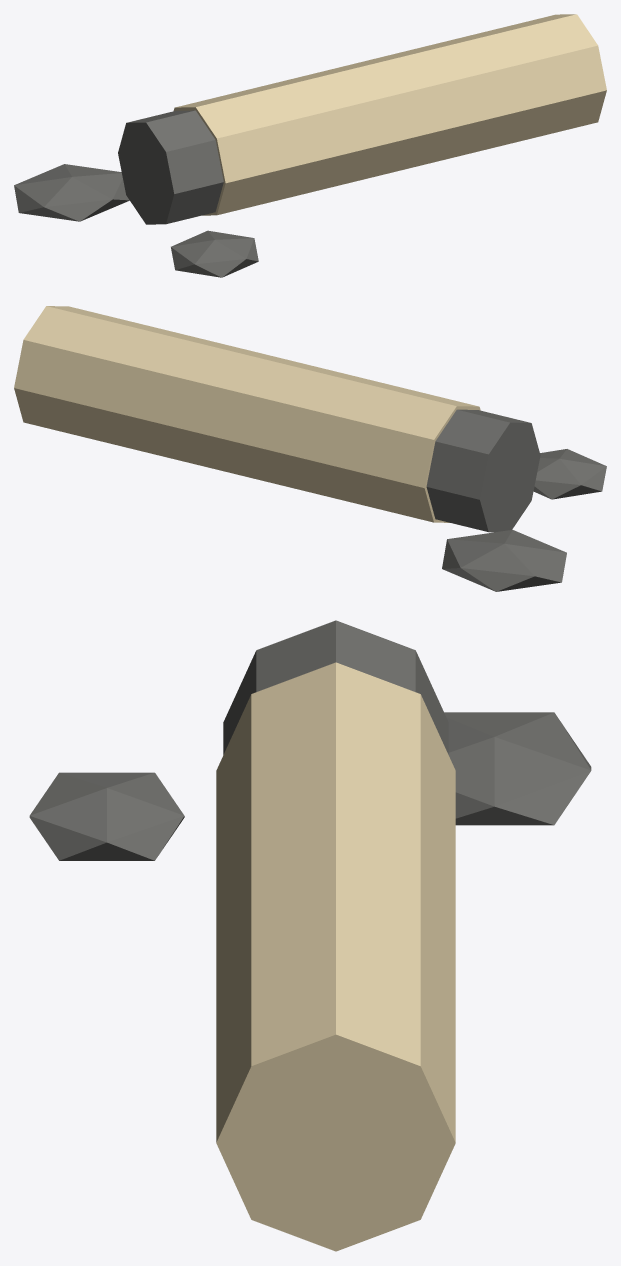
File: CigaretteButt.glb
3 views of the same model, one above another, from view 1: azimuth 30°, elevation 25°; view 2: azimuth 150°, elevation 25°; view 3: azimuth 270°, elevation 25° (orthographic). The views are drawn at different scales.
Visible parts, largest first — view 1: CigaretteFilter, BurntPaper, AshFlakeA, AshFlakeB; view 2: CigaretteFilter, BurntPaper, AshFlakeA, AshFlakeB; view 3: CigaretteFilter, AshFlakeA, AshFlakeB, BurntPaper.
Boxes of the visible parts, x1=… form: CigaretteFilter: x1=173, y1=14, x2=606, y2=215; BurntPaper: x1=118, y1=110, x2=223, y2=224; AshFlakeA: x1=14, y1=164, x2=129, y2=221; AshFlakeB: x1=171, y1=230, x2=258, y2=277; CigaretteFilter: x1=14, y1=306, x2=480, y2=522; BurntPaper: x1=426, y1=409, x2=540, y2=532; AshFlakeA: x1=442, y1=529, x2=566, y2=591; AshFlakeB: x1=533, y1=449, x2=606, y2=499; CigaretteFilter: x1=216, y1=662, x2=455, y2=1251; AshFlakeA: x1=444, y1=712, x2=591, y2=825; AshFlakeB: x1=29, y1=772, x2=184, y2=860; BurntPaper: x1=223, y1=620, x2=448, y2=754.
Bounding box in the file's own units: 0.34 × 0.069 × 0.1595.
